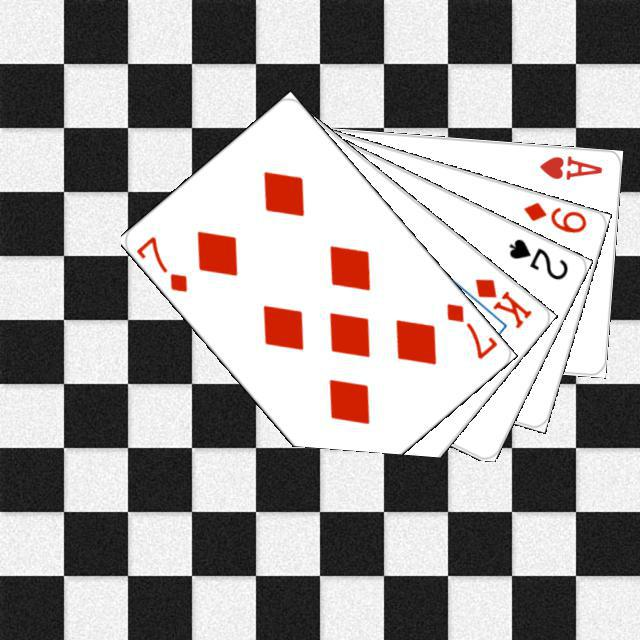2s: (504, 233, 570, 282)
7d: (132, 231, 190, 294), (441, 298, 498, 361)
9d: (518, 197, 589, 235)
Ah: (534, 151, 604, 181)
Kd: (470, 273, 534, 331)
